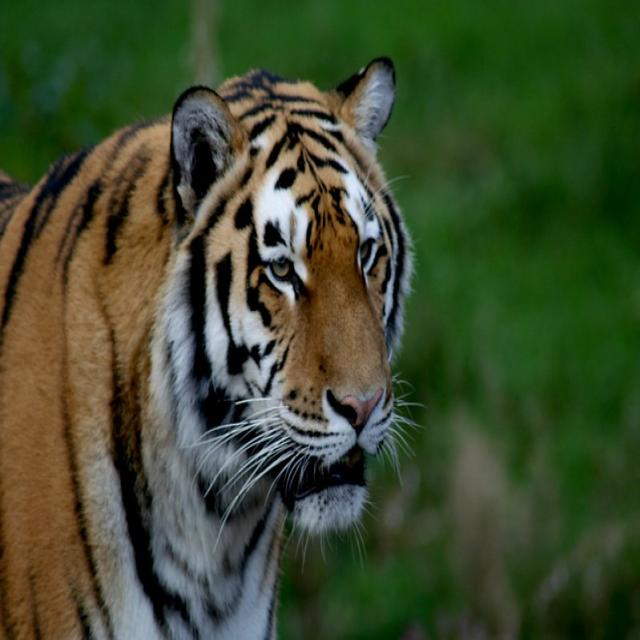Tiger: (0, 54, 407, 636)
